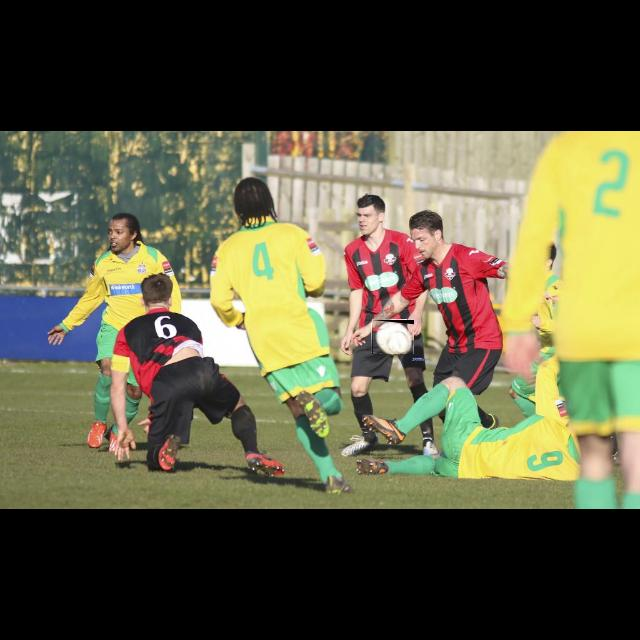Football: (372, 320, 414, 354)
